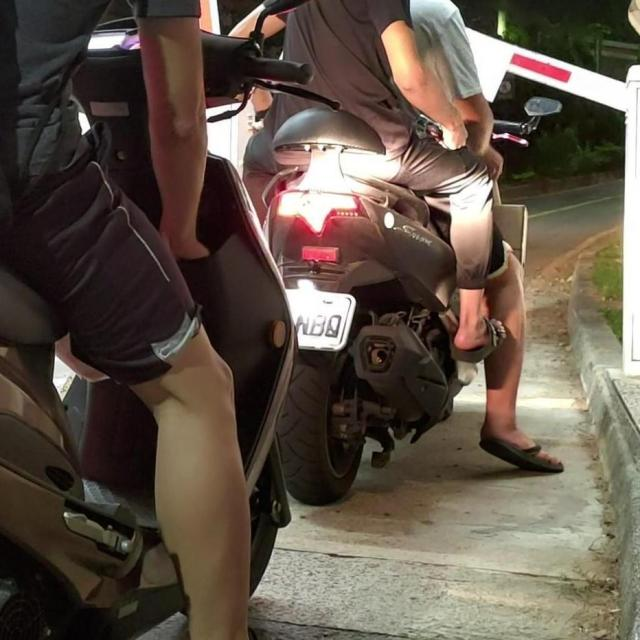W: (283, 274, 358, 354)
